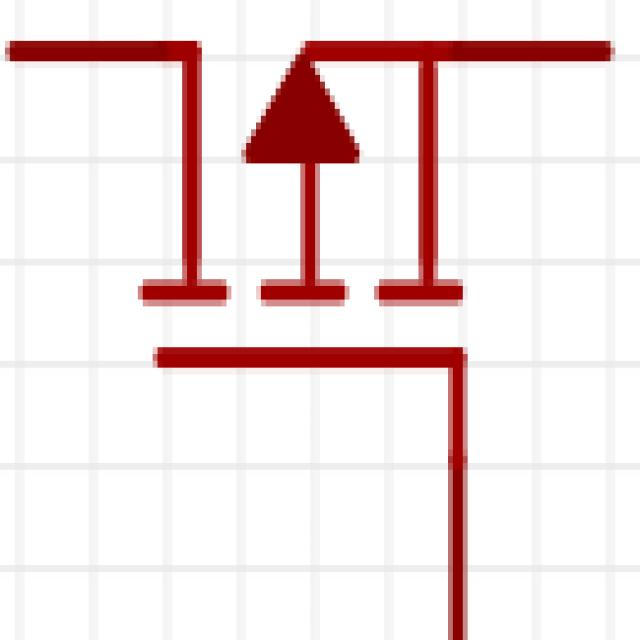pmos: (0, 8, 636, 622)
